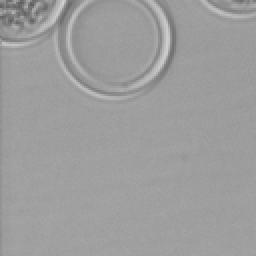picoshell: (54, 0, 174, 100), (200, 0, 254, 18)
